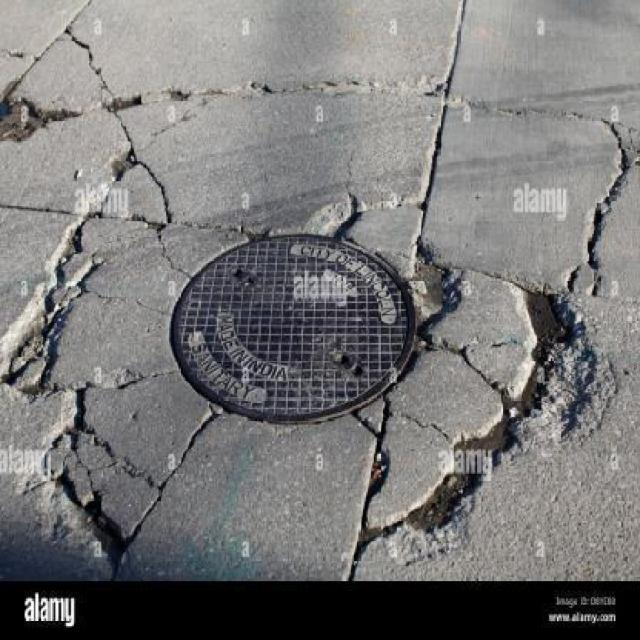Manhole: (162, 223, 436, 429)
Pothole: (479, 284, 624, 438), (408, 436, 527, 562), (51, 466, 143, 568), (2, 284, 82, 401), (0, 92, 86, 146), (44, 210, 100, 282), (414, 243, 464, 310), (339, 511, 399, 562), (406, 313, 442, 375), (361, 442, 397, 495), (334, 190, 362, 239), (106, 146, 142, 184), (68, 380, 92, 433), (230, 220, 273, 243), (100, 95, 148, 111), (161, 86, 196, 104), (249, 79, 277, 96), (320, 77, 340, 91), (4, 50, 27, 59)
